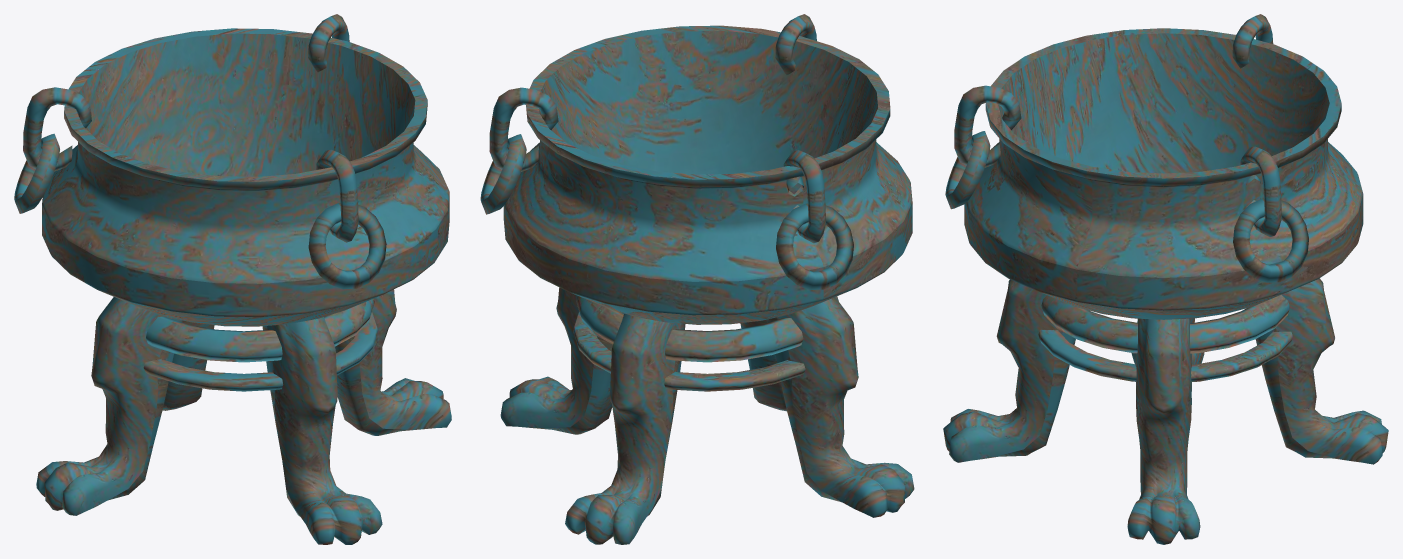
3 renders of one model, left to right at view 1: azimuth 30°, elevation 25°; view 2: azimuth 150°, elevation 25°; view 3: azimuth 270°, elevation 25°, orthographic. The views are drawn at different scales.
Parts seen in each view (by area): view 1: SM_Large_Bowl_LOD0; view 2: SM_Large_Bowl_LOD0; view 3: SM_Large_Bowl_LOD0.
Part boxes in pixels (box(x1,y1,x2,y2)): SM_Large_Bowl_LOD0: box(14, 14, 451, 544); SM_Large_Bowl_LOD0: box(480, 14, 914, 544); SM_Large_Bowl_LOD0: box(943, 14, 1388, 544).
Bounding box in the file's own units: 0.9993 × 0.9168 × 0.9993.
1 material, 1 textured.
